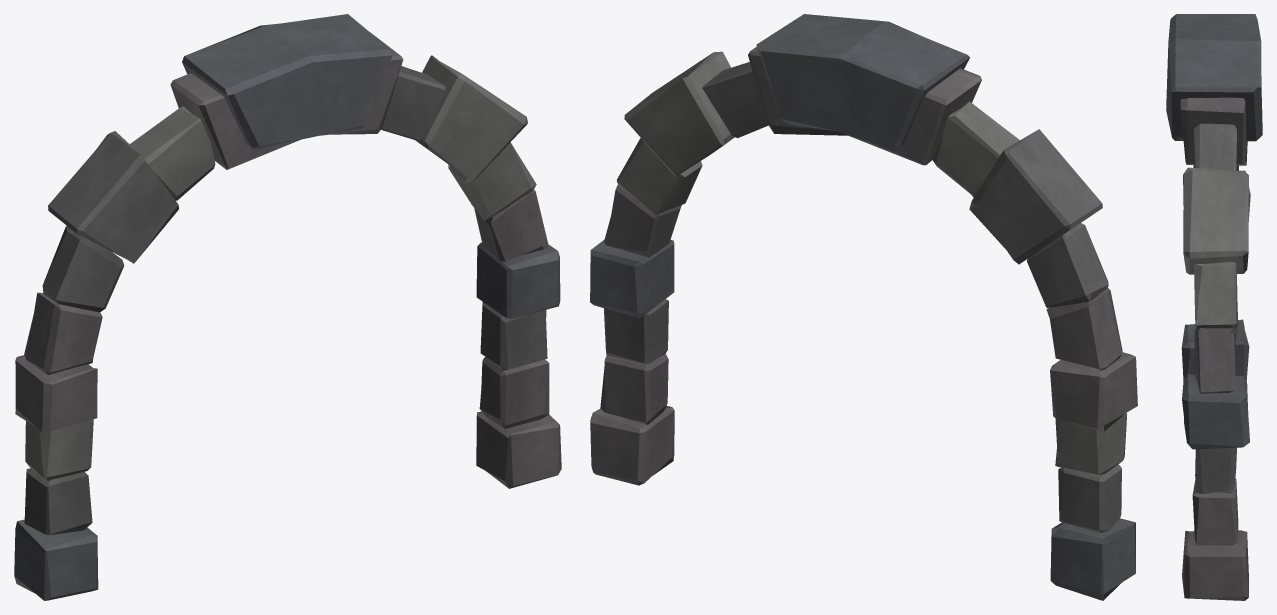
File: BigArch2.fbx
3 renders of one model, left to right at view 1: azimuth 30°, elevation 25°; view 2: azimuth 150°, elevation 25°; view 3: azimuth 270°, elevation 25°, orthographic. The views are drawn at different scales.
Visible parts, largest first — view 1: Right; view 2: Right; view 3: Right.
Part boxes in pixels (x1=…): Right: x1=14, y1=14, x2=561, y2=600; Right: x1=590, y1=14, x2=1137, y2=600; Right: x1=1166, y1=14, x2=1262, y2=600.
Size of the model in its own units: 163 by 148 by 28.6.
